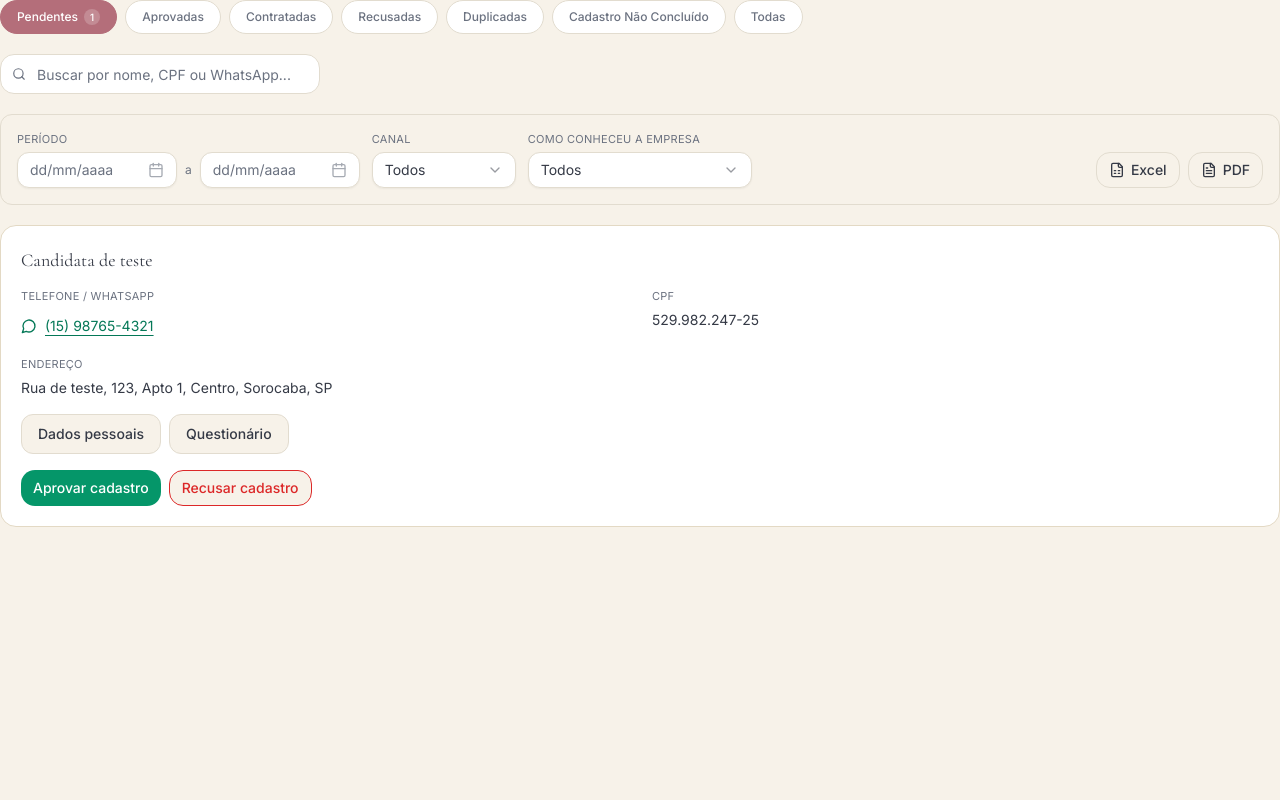
Test: Captação · respostas da candidata › mostra as perguntas de avaliação e perfil no botão Questionário
Click the button "Questionário" at (229, 434), box x1=169 y1=414 x2=289 y2=454
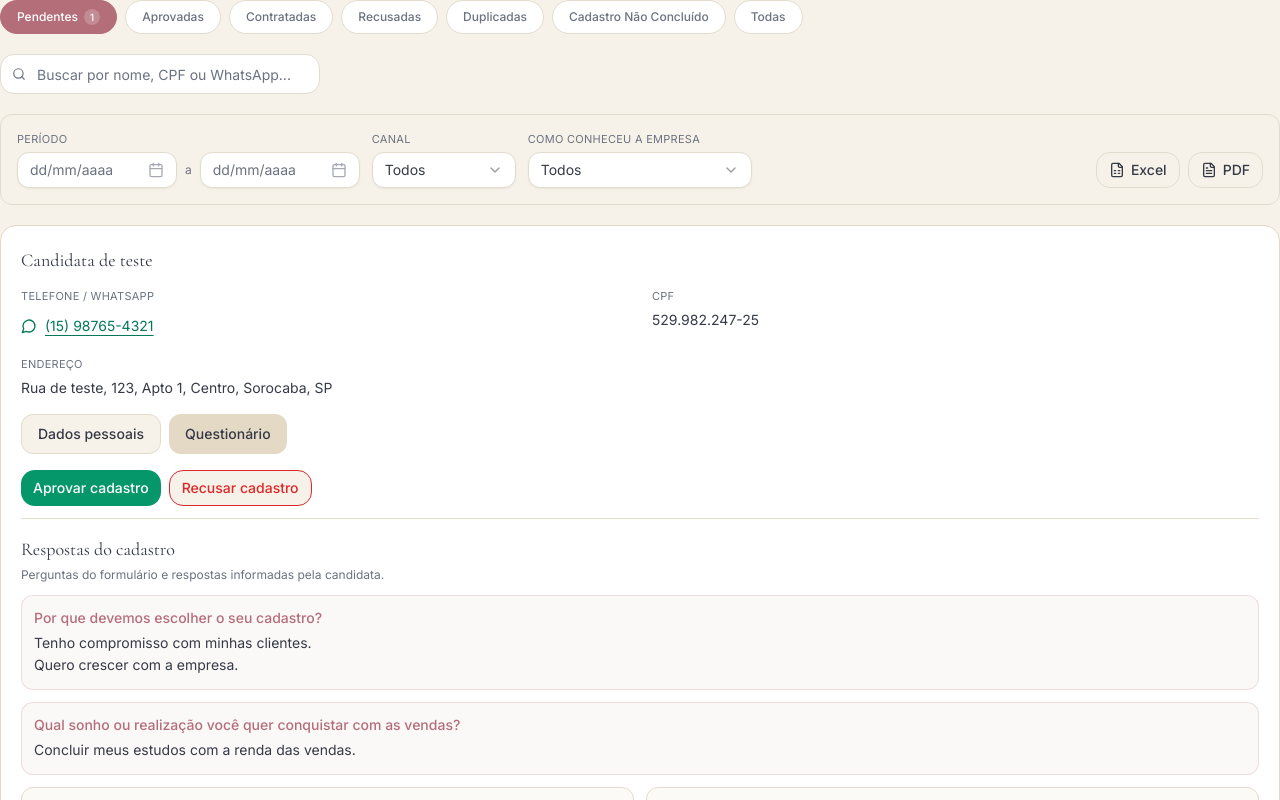
Now the text "Concluir meus estudos com a renda das vendas." is shown, box x1=34 y1=741 x2=356 y2=758
Now the button "Questionário" is expanded, box x1=169 y1=414 x2=287 y2=454
